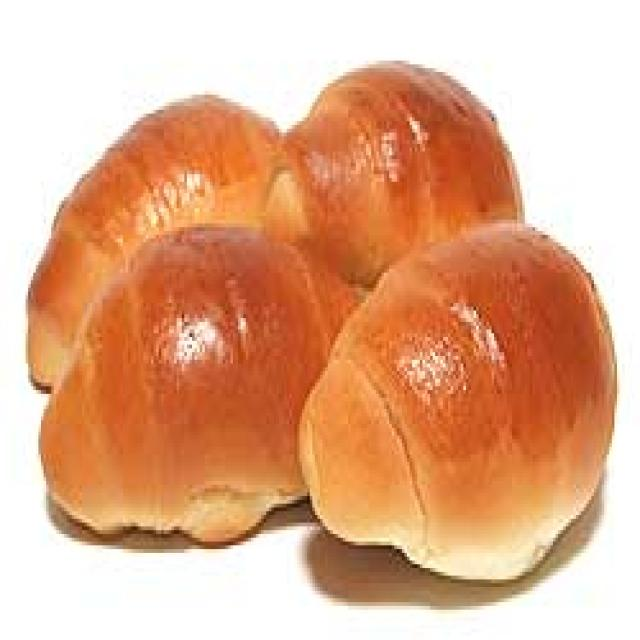面包点心: (15, 42, 628, 587)
